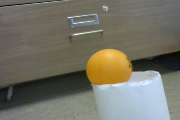PingPongBall: (86, 49, 133, 86)
